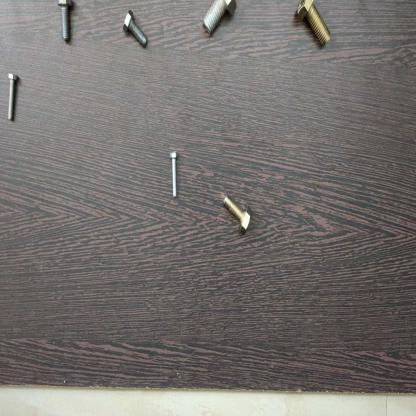Bolts: (196, 0, 240, 48), (294, 0, 332, 53), (221, 189, 252, 242), (121, 3, 150, 55), (54, 0, 76, 45), (7, 68, 23, 126), (168, 149, 182, 202)
